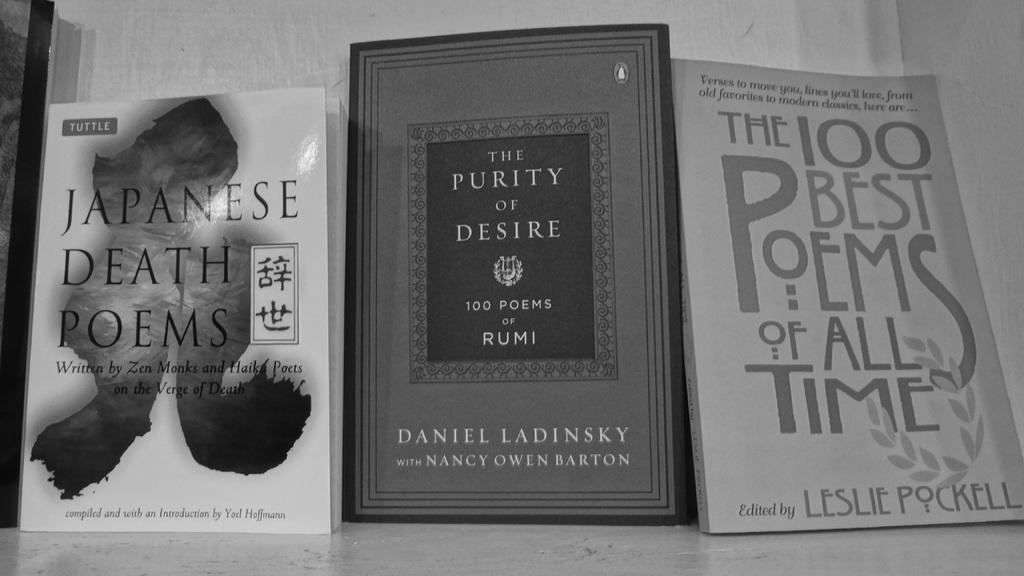book: (344, 20, 701, 522), (668, 63, 1023, 540), (15, 84, 334, 530)
